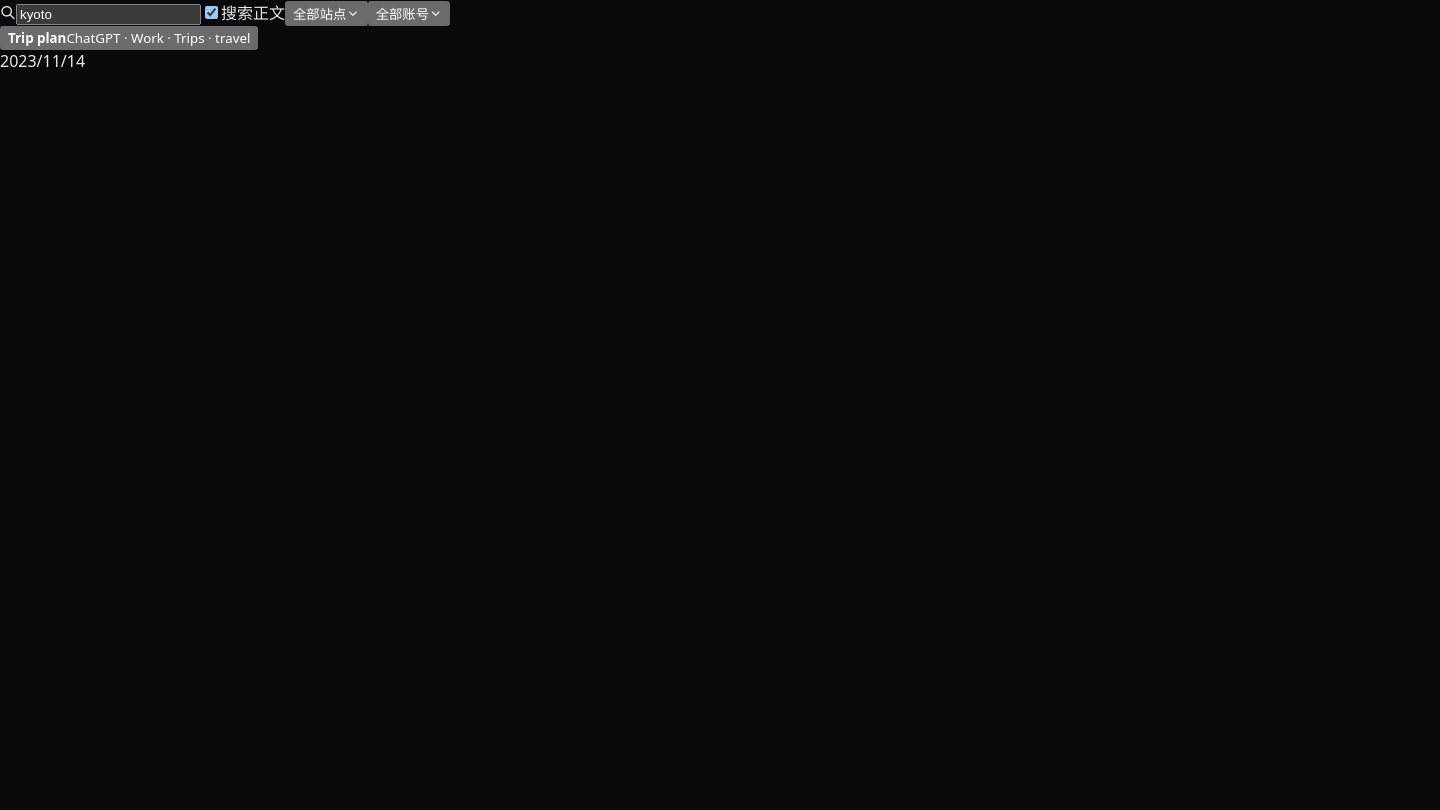
it: web chats tab › asks before sending a body to the runner, then shows the summary
The image size is (1440, 810).
Click the button with class "session-title". click: x=129, y=38
box: [0, 26, 258, 50]
Wait 10 ms
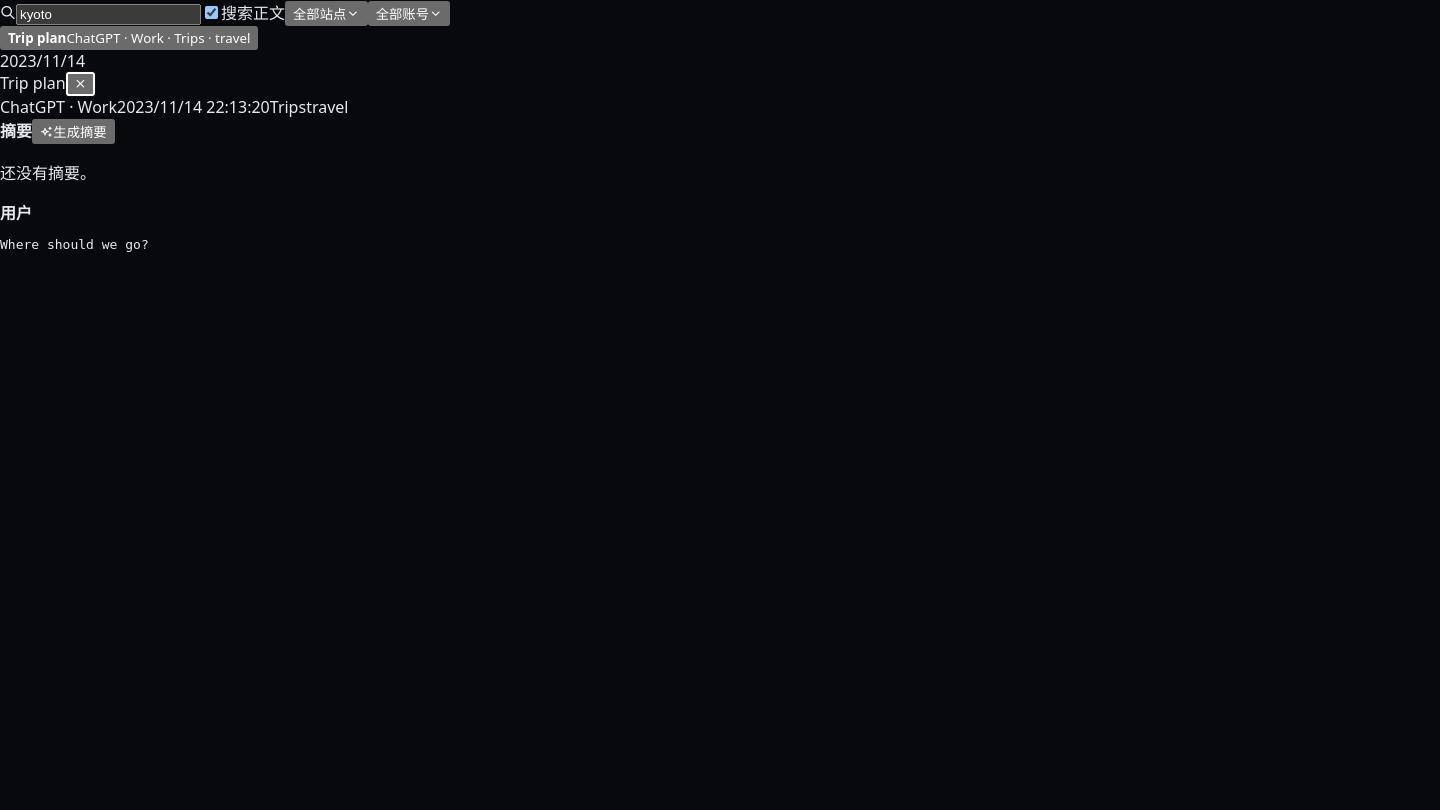
Result: the text "Where should we go?" is shown at [0, 237, 149, 252]
Result: the button "生成摘要" is shown
Click the button "生成摘要". click: x=73, y=132
box: [32, 119, 115, 144]
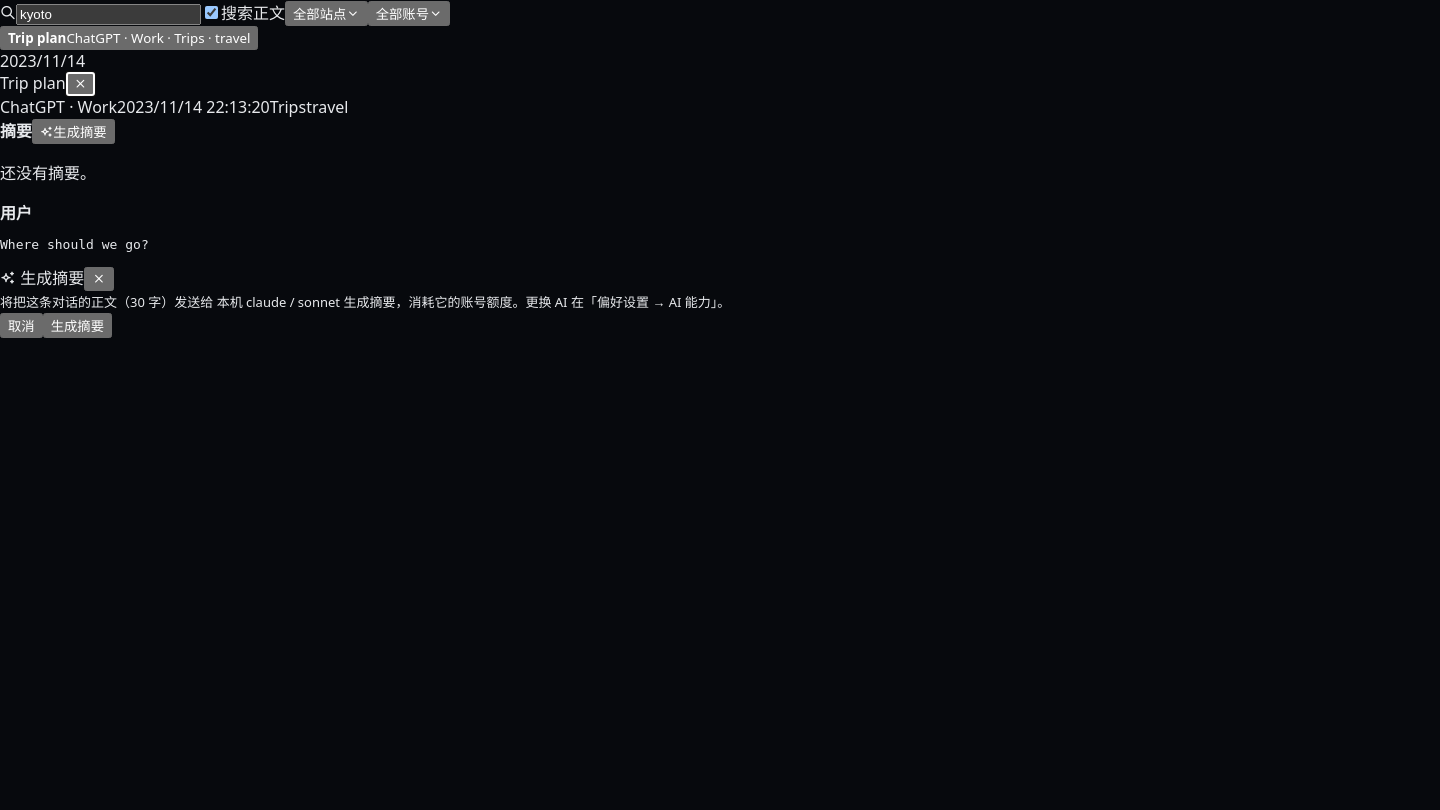
Result: the text "本机 claude / sonnet" is shown at [0, 293, 730, 311]
Result: the 2nd button "生成摘要" is shown
Click the 2nd button "生成摘要". click: x=77, y=326
box: [43, 313, 112, 338]
Wait 10 ms
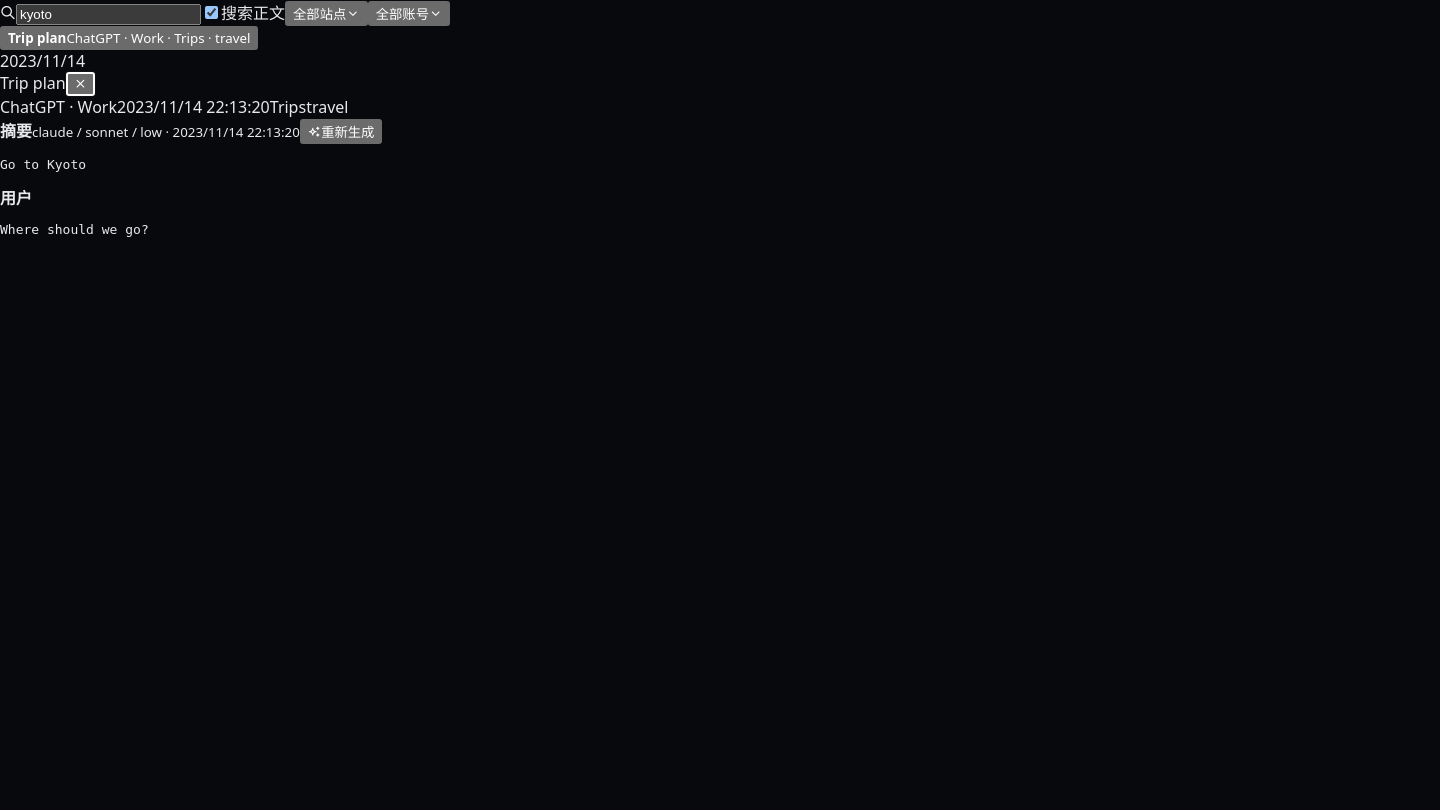
Result: the text "Go to Kyoto" is shown at [0, 157, 86, 172]
